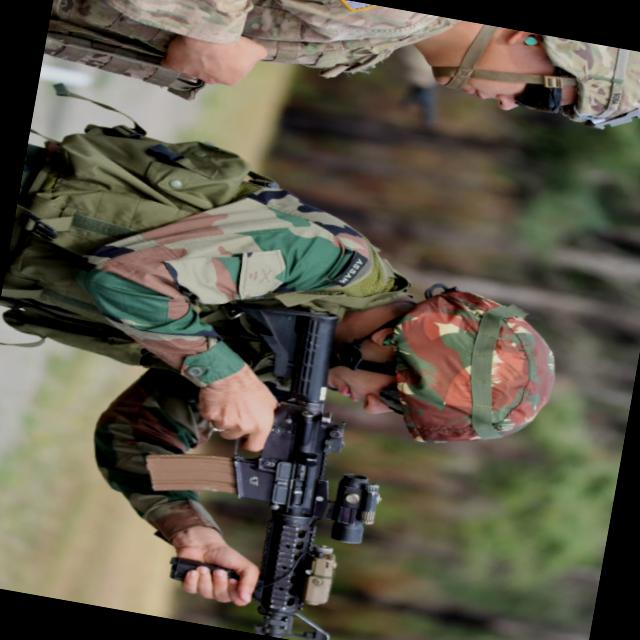long weapon: (141, 283, 418, 639)
